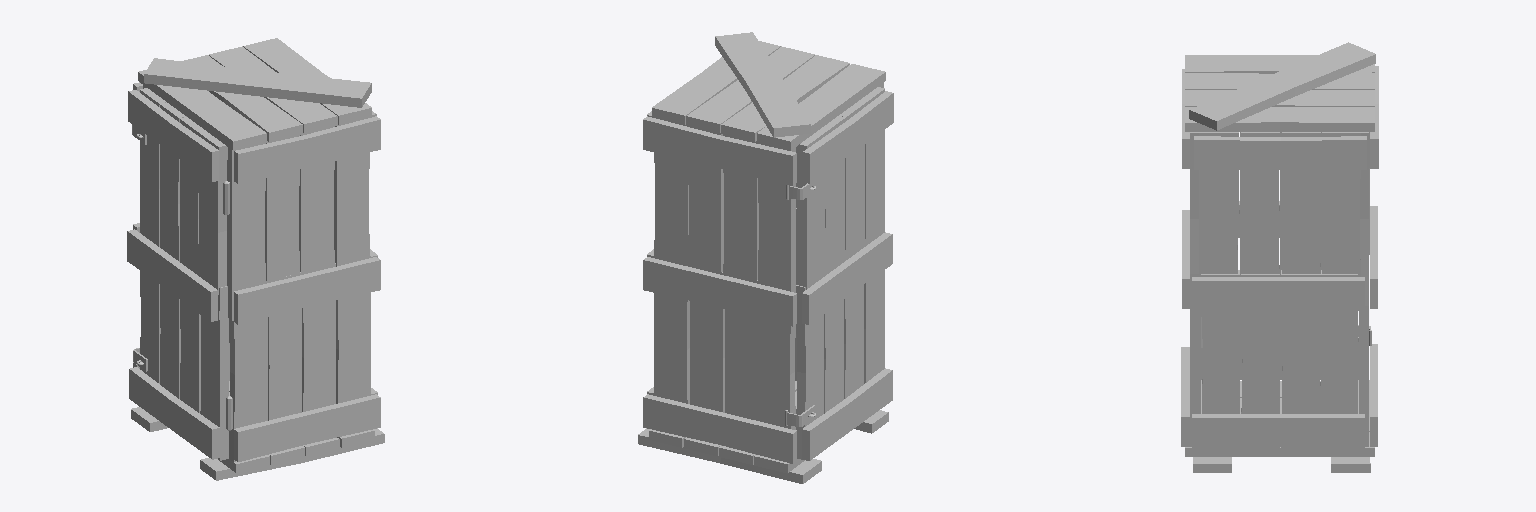
Rendered from ToolCupboard.obj.
The picture shows the model from 3 angles: view 1: azimuth 30°, elevation 25°; view 2: azimuth 150°, elevation 25°; view 3: azimuth 270°, elevation 25°; orthographic projection.
Visible parts, largest first — view 1: Torus; view 2: Torus; view 3: Torus.
Boxes of the visible parts, x1=… form: Torus: x1=127, y1=38, x2=384, y2=480; Torus: x1=638, y1=32, x2=893, y2=483; Torus: x1=1181, y1=42, x2=1378, y2=472.
Bounding box in the file's own units: 2.06 × 4.07 × 2.07.